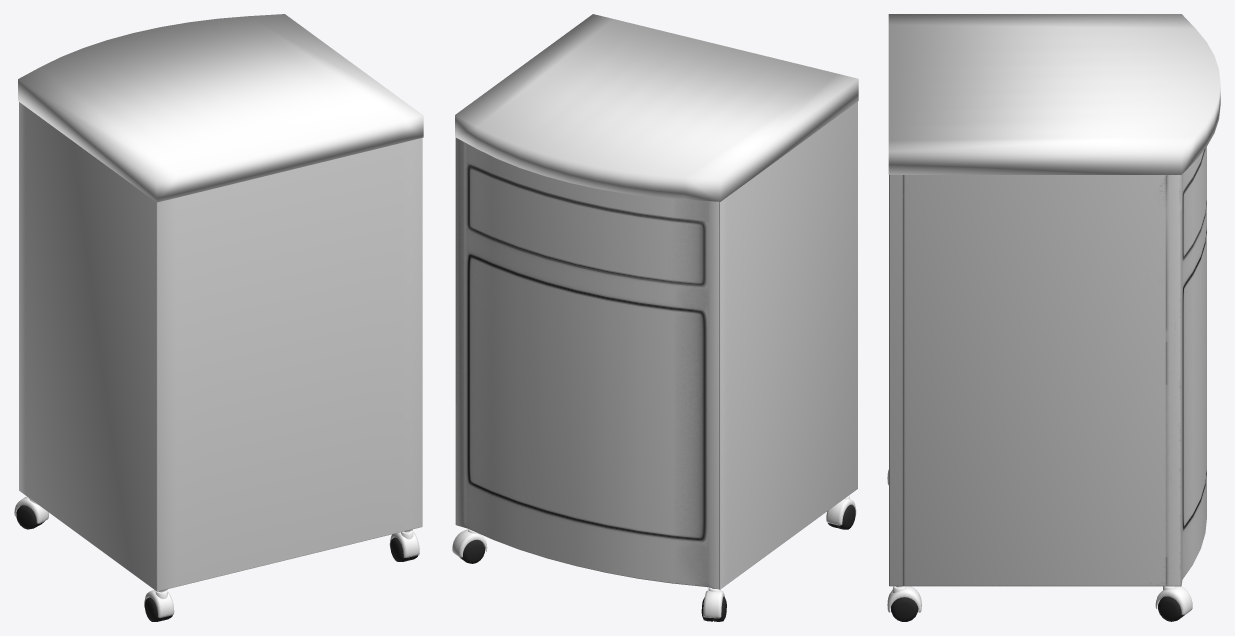
The model's file is Table.fbx.
3 renders of one model, left to right at view 1: azimuth 30°, elevation 25°; view 2: azimuth 150°, elevation 25°; view 3: azimuth 270°, elevation 25°, orthographic. The views are drawn at different scales.
Parts seen in each view (by area): view 1: polySurface83, polySurface82, polySurface123; view 2: polySurface83, polySurface82, polySurface123; view 3: polySurface83, polySurface82, polySurface123, polySurface88, polySurface116.
Boxes of the visible parts, x1=… form: polySurface83: x1=19, y1=102, x2=422, y2=591; polySurface82: x1=18, y1=14, x2=423, y2=202; polySurface123: x1=14, y1=496, x2=419, y2=617; polySurface83: x1=455, y1=101, x2=857, y2=589; polySurface82: x1=455, y1=14, x2=858, y2=201; polySurface123: x1=452, y1=495, x2=856, y2=618; polySurface83: x1=889, y1=147, x2=1206, y2=586; polySurface82: x1=888, y1=14, x2=1220, y2=174; polySurface123: x1=887, y1=469, x2=1192, y2=615; polySurface88: x1=891, y1=597, x2=918, y2=621; polySurface116: x1=1158, y1=596, x2=1183, y2=621.
Size of the model in its own units: 1.78 by 2.81 by 1.79.
